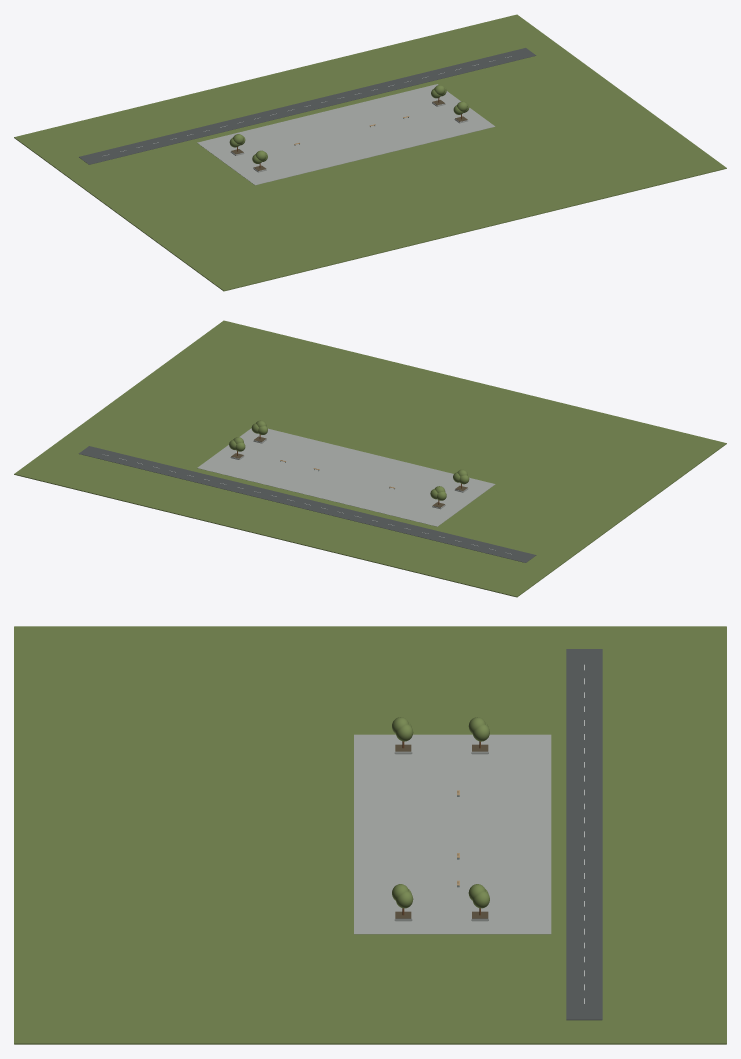
The model's file is site.glb.
3 views of the same model, one above another, from view 1: azimuth 30°, elevation 25°; view 2: azimuth 150°, elevation 25°; view 3: azimuth 270°, elevation 25° (orthographic). The views are drawn at different scales.
Parts seen in each view (by area): view 1: 00_Site_ExpansionReserve__Grass_MossOlive, 00_Site_ExpansionReserve__Concrete_FineCast, 00_Site_ExpansionReserve__Asphalt_Aggregate; view 2: 00_Site_ExpansionReserve__Grass_MossOlive, 00_Site_ExpansionReserve__Concrete_FineCast, 00_Site_ExpansionReserve__Asphalt_Aggregate; view 3: 00_Site_ExpansionReserve__Grass_MossOlive, 00_Site_ExpansionReserve__Concrete_FineCast, 00_Site_ExpansionReserve__Asphalt_Aggregate.
Part boxes in pixels (x1,y1,x2,y2): 00_Site_ExpansionReserve__Grass_MossOlive: [14, 14, 726, 291]; 00_Site_ExpansionReserve__Concrete_FineCast: [197, 84, 495, 185]; 00_Site_ExpansionReserve__Asphalt_Aggregate: [79, 48, 536, 164]; 00_Site_ExpansionReserve__Grass_MossOlive: [14, 320, 726, 597]; 00_Site_ExpansionReserve__Concrete_FineCast: [197, 428, 495, 526]; 00_Site_ExpansionReserve__Asphalt_Aggregate: [79, 446, 536, 562]; 00_Site_ExpansionReserve__Grass_MossOlive: [14, 626, 726, 1044]; 00_Site_ExpansionReserve__Concrete_FineCast: [354, 734, 551, 934]; 00_Site_ExpansionReserve__Asphalt_Aggregate: [566, 649, 602, 1020].
Bounding box in the file's own units: 180 × 6.98 × 130.
